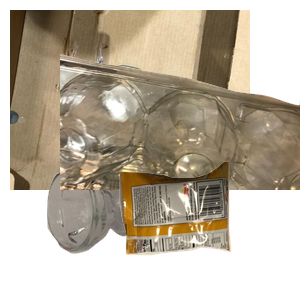cardboard: (10, 10, 250, 190)
glass: (44, 165, 178, 300)
plastic: (60, 52, 300, 232)
trash: (117, 159, 300, 300)
